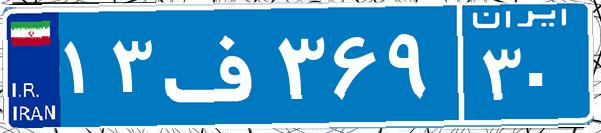0: (525, 38, 570, 115)
1: (57, 26, 110, 107)
3: (273, 28, 330, 110), (475, 38, 525, 113), (110, 28, 158, 105)
6: (330, 28, 385, 110)
9: (385, 28, 445, 110)
ف: (158, 15, 273, 115)
